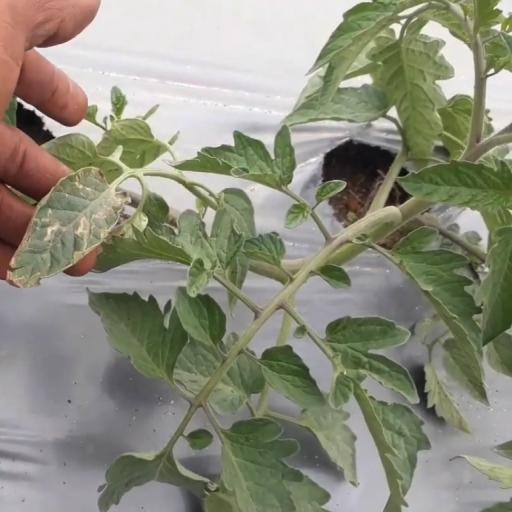Healthy: (82, 288, 190, 380), (259, 342, 329, 411), (176, 282, 228, 346)
Leaf Miner: (8, 164, 133, 286)
